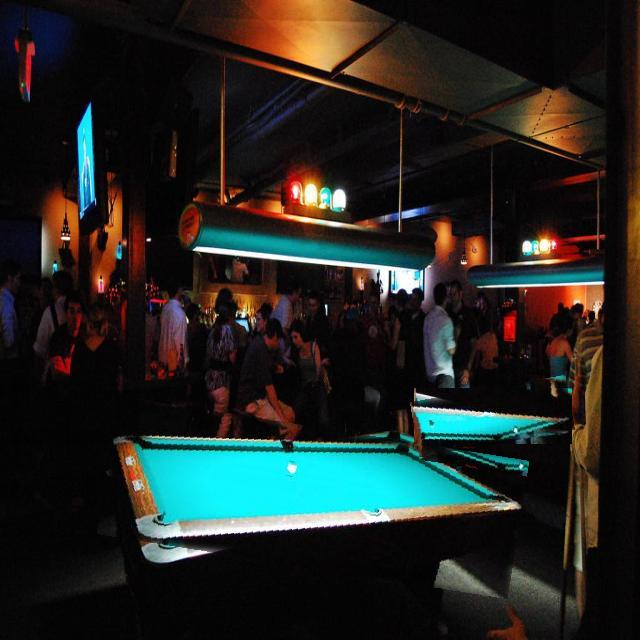Ball: (281, 465, 293, 480), (550, 412, 558, 423), (469, 394, 476, 402)
Billiard table: (101, 412, 525, 584), (412, 382, 574, 450)
